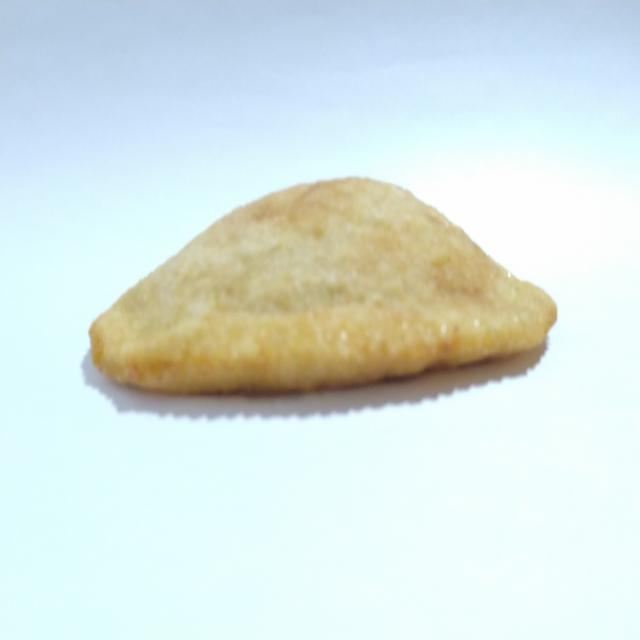Pastel_Mandio: (69, 165, 566, 408)
